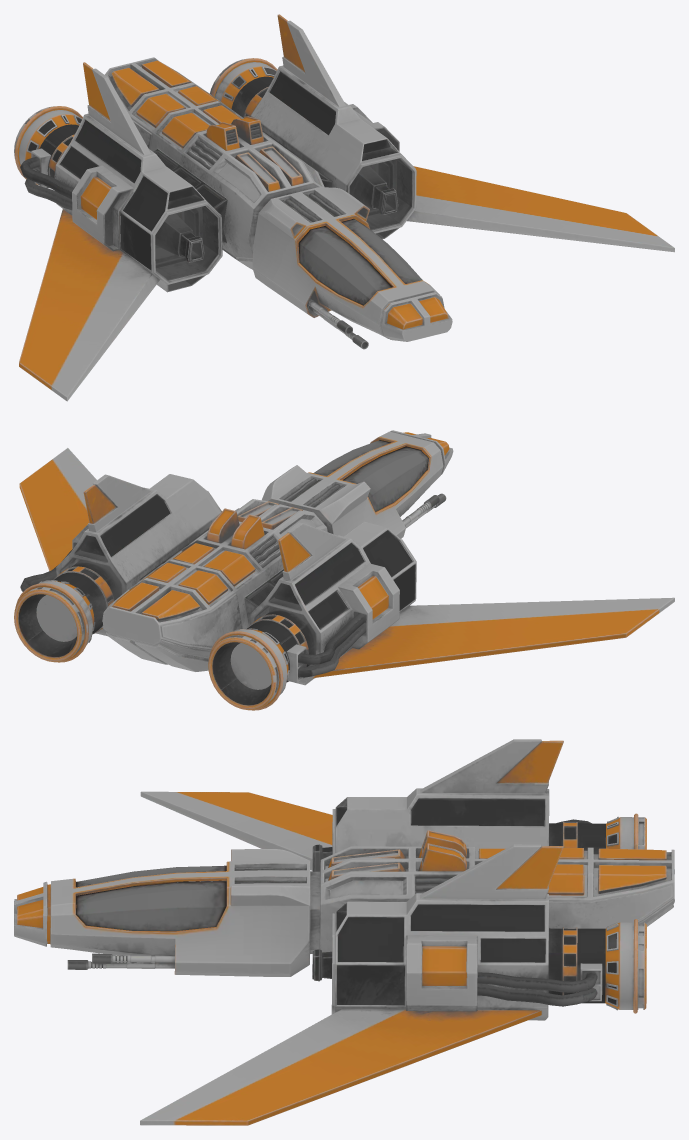
The model's file is spaceship.glb.
The picture shows the model from 3 angles, top to bottom: view 1: azimuth 30°, elevation 25°; view 2: azimuth 150°, elevation 25°; view 3: azimuth 270°, elevation 25°; orthographic projection. The views are drawn at different scales.
Visible parts, largest first — view 1: Starship_Material.003_0; view 2: Starship_Material.003_0; view 3: Starship_Material.003_0.
Part boxes in pixels (<box>): Starship_Material.003_0: <box>14,14,674,401</box>; Starship_Material.003_0: <box>14,430,674,710</box>; Starship_Material.003_0: <box>14,739,674,1125</box>.
Size of the model in its own units: 25.92 by 6.51 by 21.89.
Materials: 1 (1 with a texture image).
